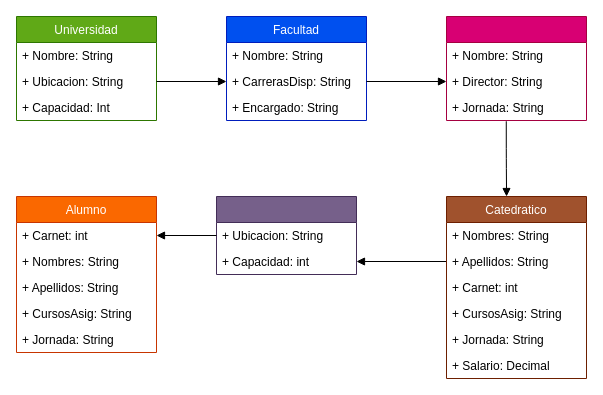
The diagram is 603 pixels wide and 395 high, and some of its shapes have lost their labels. The shapes that lost their labels are listed below. From the top down, each one's box as (x1, y1, x2, y2) in pixels, then its label:
(446, 16, 586, 120): Carrera
(216, 196, 356, 274): Salon
